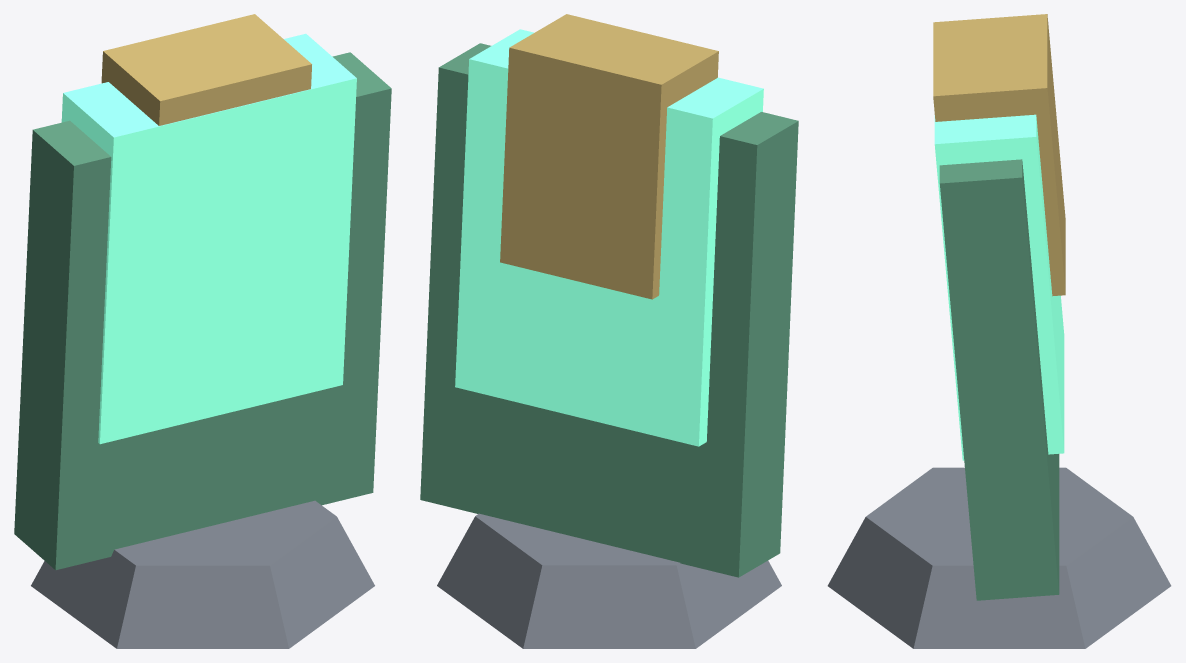
The model's file is LP_Item_V10.fbx.
3 views of the same model, side by side, from view 1: azimuth 30°, elevation 25°; view 2: azimuth 150°, elevation 25°; view 3: azimuth 270°, elevation 25° (orthographic).
Visible parts, largest first — view 1: ArtifactMesh; view 2: ArtifactMesh; view 3: ArtifactMesh.
Boxes of the visible parts, x1,y1,x2,y2 form: ArtifactMesh: (14, 14, 391, 648); ArtifactMesh: (420, 14, 798, 648); ArtifactMesh: (827, 14, 1171, 648).
Size of the model in its own units: 0.115 by 0.1853 by 0.108.
